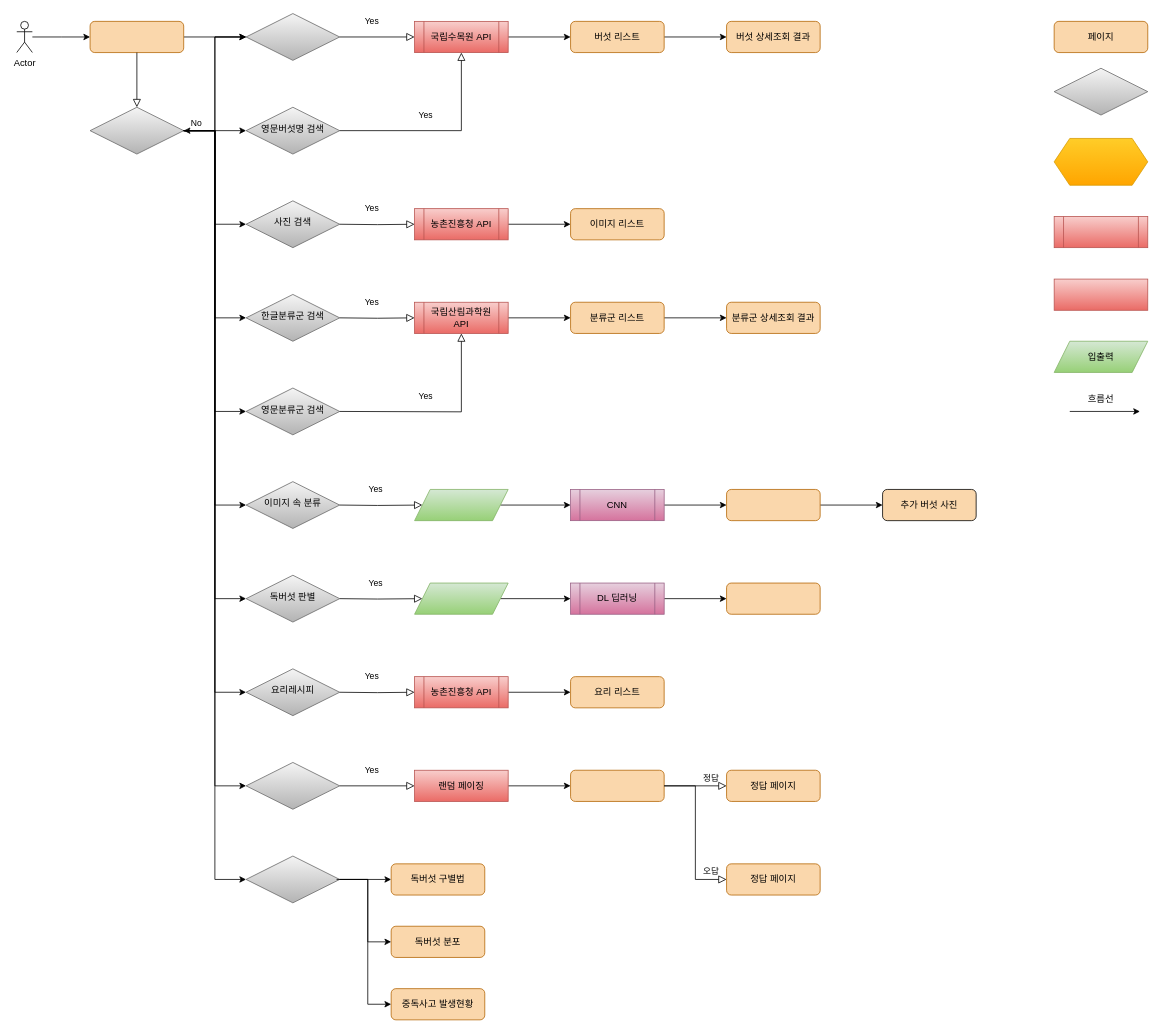
Image size: 1161x1034. Some labels were removed from this diagram. The shapes that lost their labels are listed below. From the top down, each one's box as (x1, y1, x2, y2) in pixels, then its label:
(89, 21, 184, 53): 메인페이지
(245, 13, 340, 60): 한글버섯명 검색
(1053, 67, 1148, 115): 판단
(89, 106, 184, 154): 사이드메뉴
(1053, 138, 1148, 185): 초기값 준비
(1053, 216, 1148, 248): 정의된 처리
(1053, 278, 1148, 310): 처리
(414, 489, 508, 521): 이미지 선택
(726, 489, 820, 521): 사진 판별 결과
(414, 582, 508, 614): 판단할 버섯 특징
(726, 582, 820, 614): 독버섯 판별 결과
(245, 762, 340, 809): 구별 퀴즈
(570, 769, 664, 801): 퀴즈 페이지
(245, 855, 340, 903): 추가 정보
